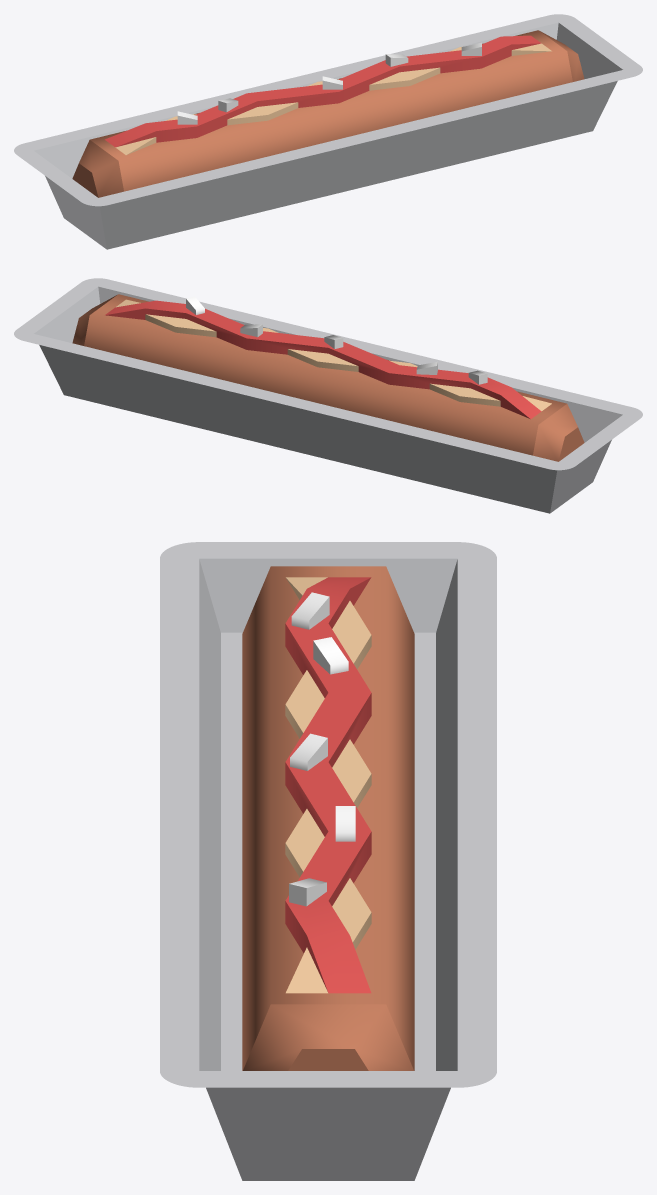
The model's file is frikandelSpeciaal.fbx.
3 renders of one model, top to bottom at view 1: azimuth 30°, elevation 25°; view 2: azimuth 150°, elevation 25°; view 3: azimuth 270°, elevation 25°, orthographic. The views are drawn at different scales.
Parts seen in each view (by area): view 1: frikandelSpeciaal, frikandel, sauceOnions; view 2: frikandelSpeciaal, frikandel, sauceOnions; view 3: frikandelSpeciaal, frikandel, sauceOnions.
Part boxes in pixels (x1,y1,x2,y2): frikandelSpeciaal: (14,14,642,249); frikandel: (72,30,584,197); sauceOnions: (105,35,551,155); frikandelSpeciaal: (14,278,642,513); frikandel: (72,294,584,461); sauceOnions: (105,296,551,419); frikandelSpeciaal: (160,542,496,1180); frikandel: (242,566,414,1070); sauceOnions: (285,577,371,993).
Bounding box in the file's own units: 6.36 × 1.09 × 1.66.
